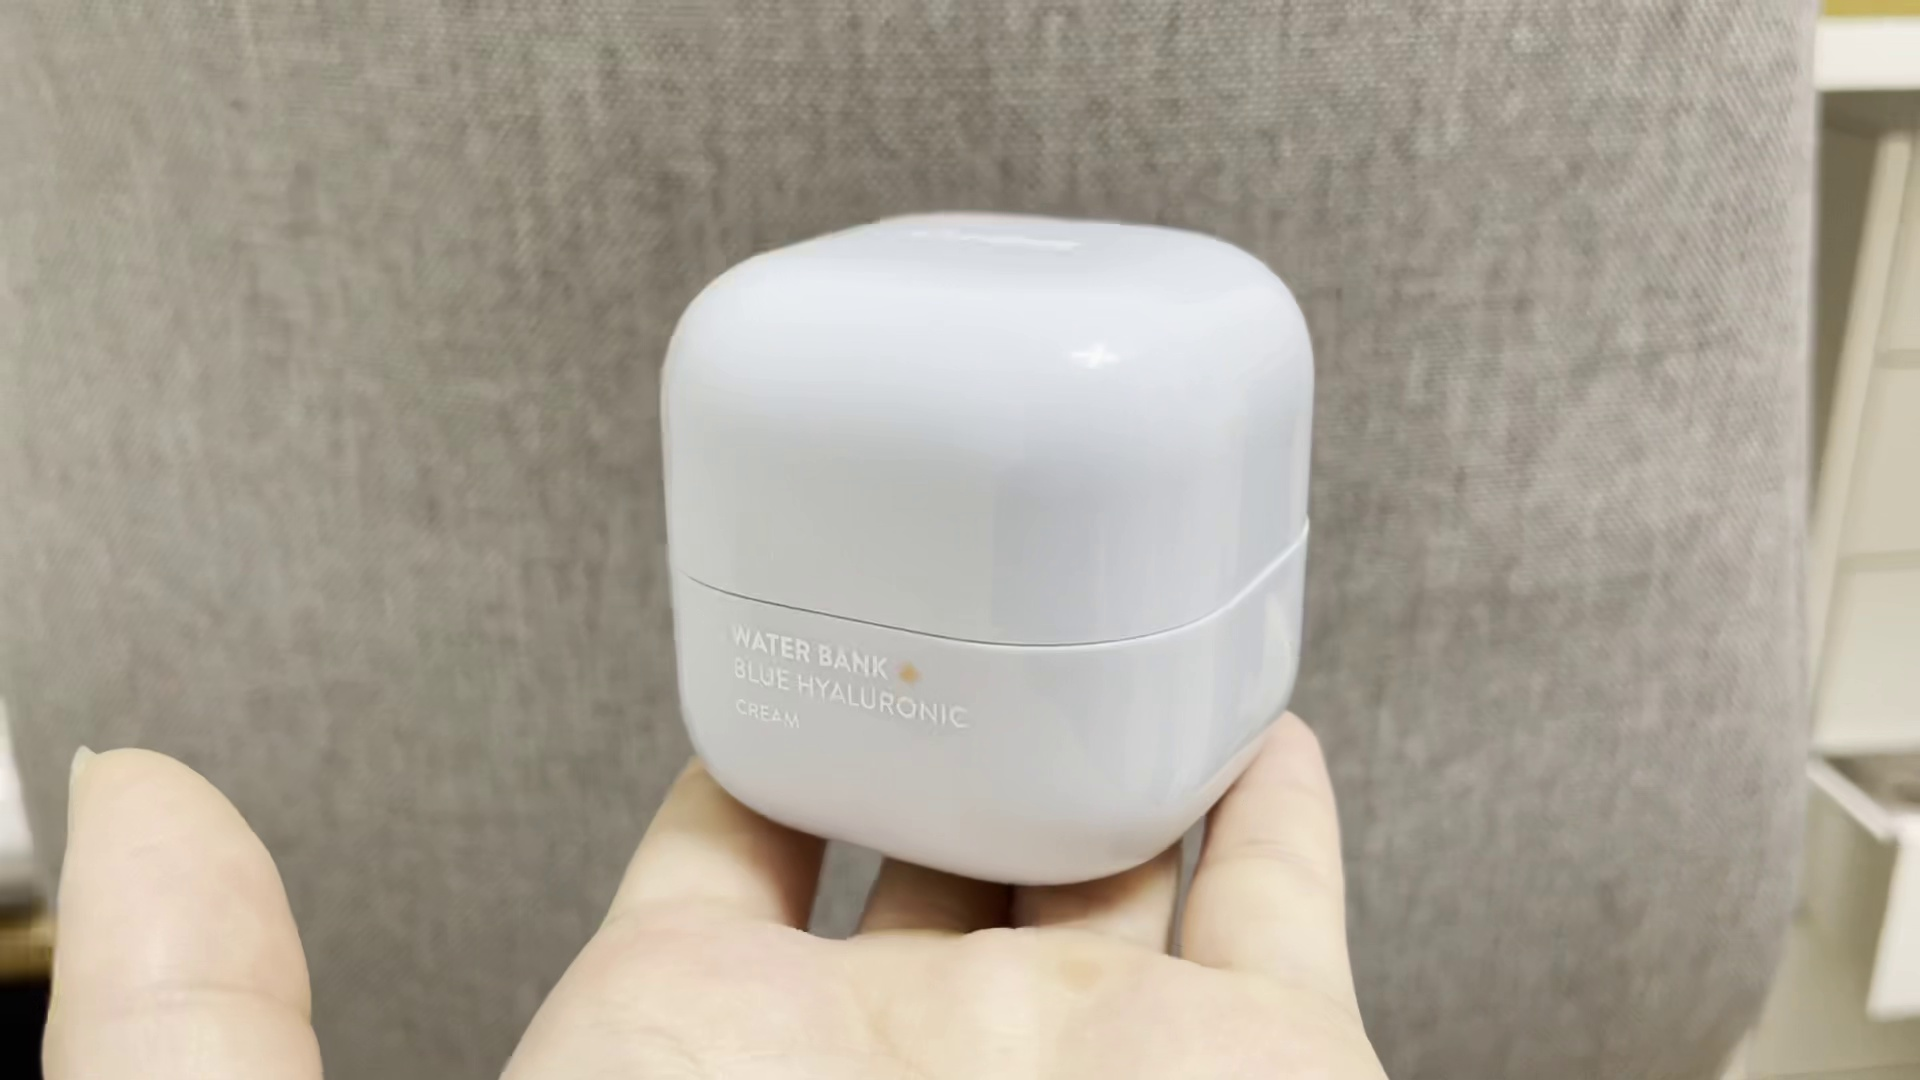cream: (658, 212, 1305, 884)
